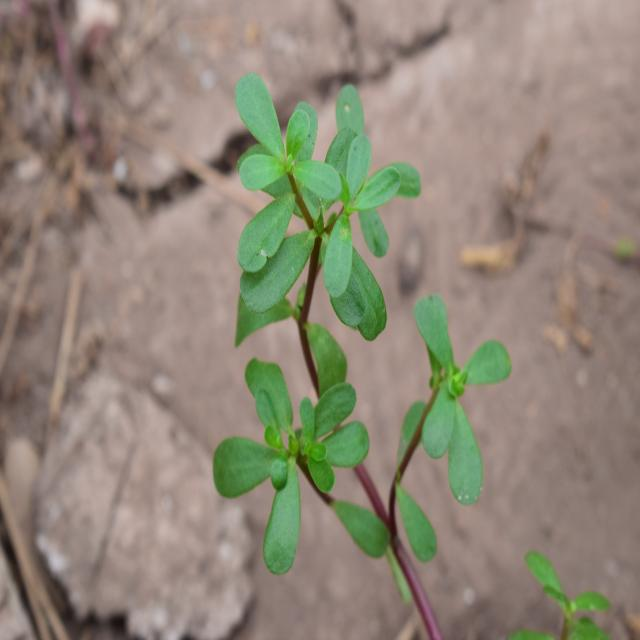purslane: (192, 72, 498, 566)
